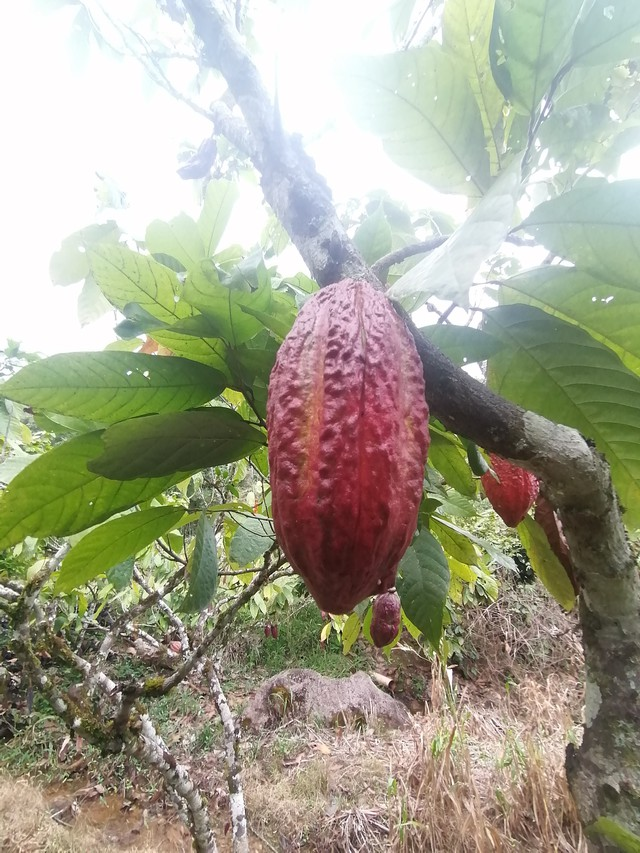Health: (253, 264, 438, 620)
